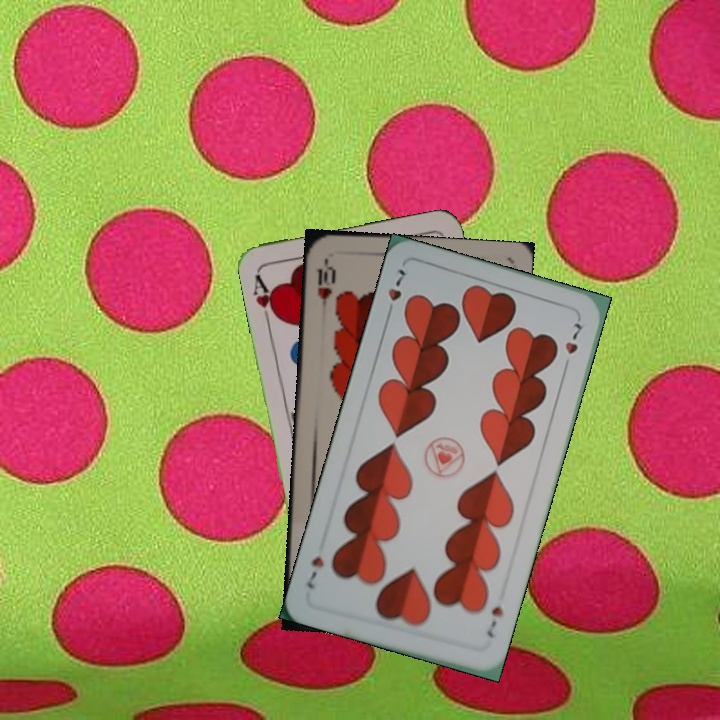H10: (313, 256, 338, 315)
H7: (382, 264, 408, 320), (483, 602, 506, 641)
HA: (249, 268, 282, 327)
